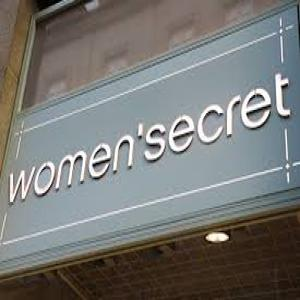women_secret: (0, 64, 300, 217)
